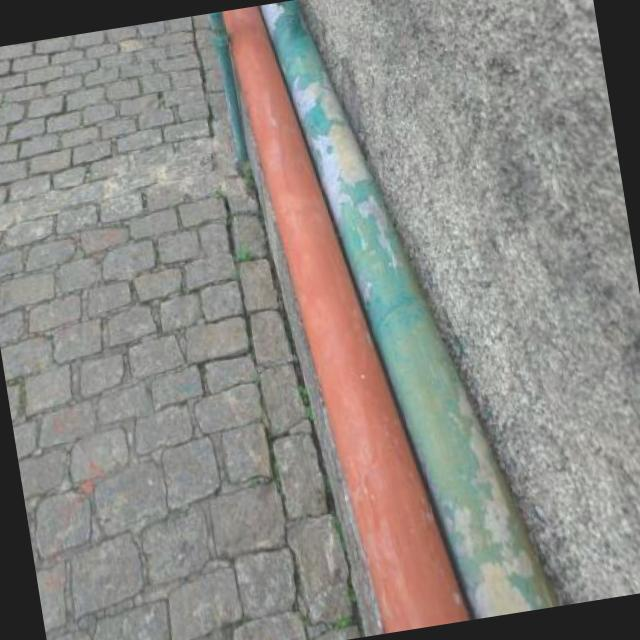gas: (261, 0, 561, 619), (224, 8, 474, 633)
